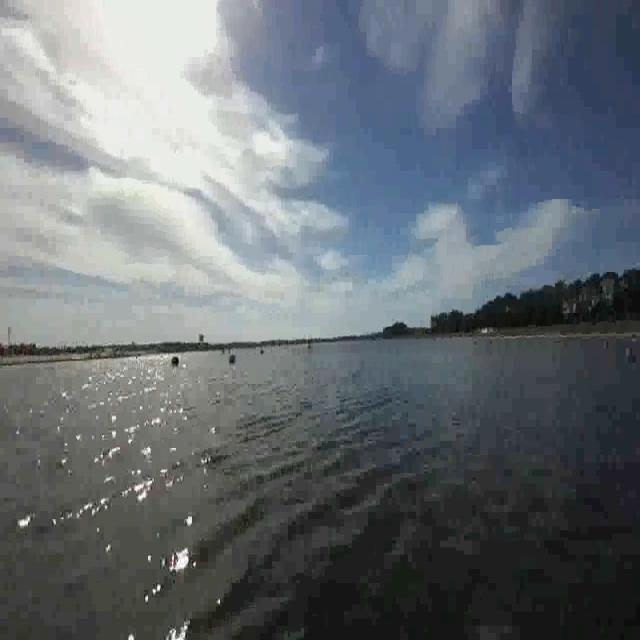black-buoy: (172, 350, 179, 366), (228, 353, 235, 362)
